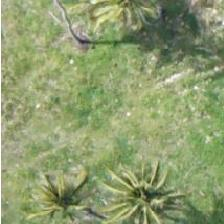Kelapa_Sawit: (34, 0, 124, 85), (95, 153, 185, 224), (15, 156, 105, 224)
